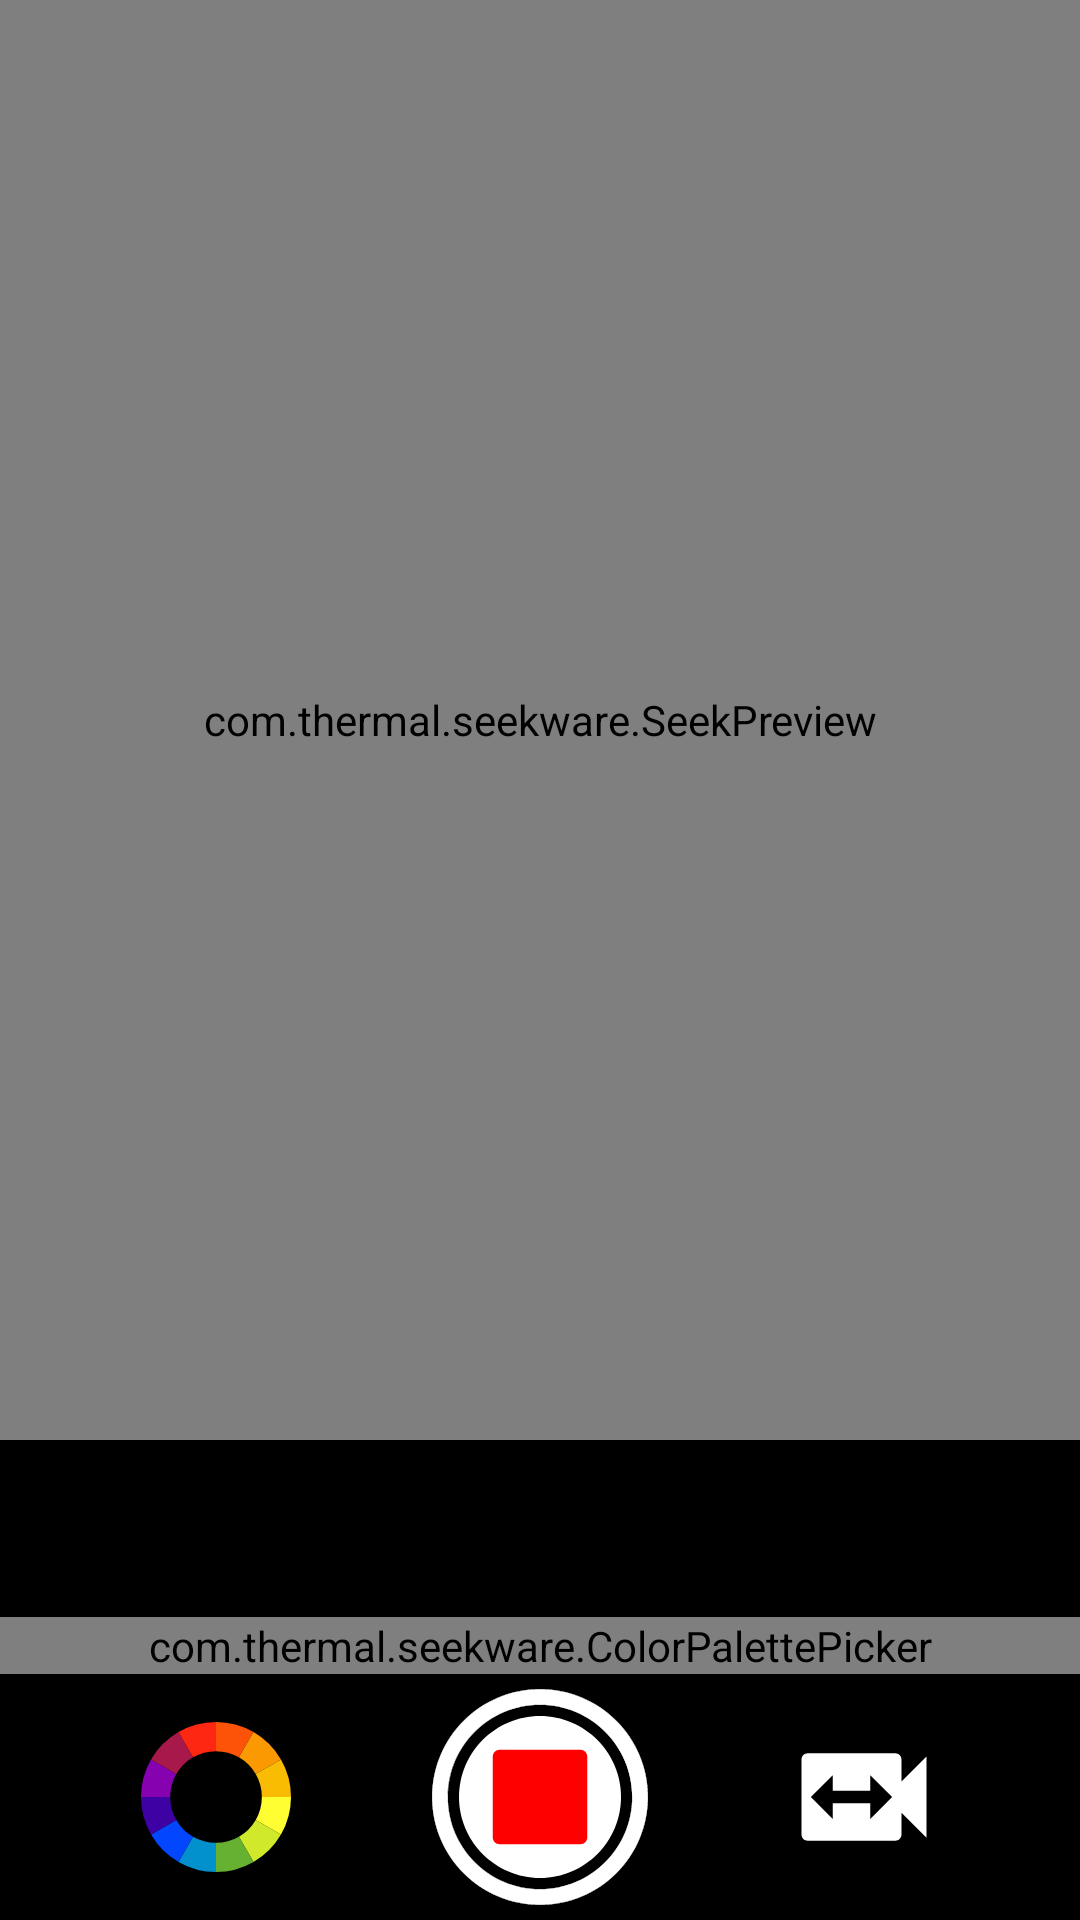

Icon bounding boxes for this 1080x1920 phone screenshot, format (x1, y1, x2, y2):
Color LUT: (141, 1722, 291, 1872)
